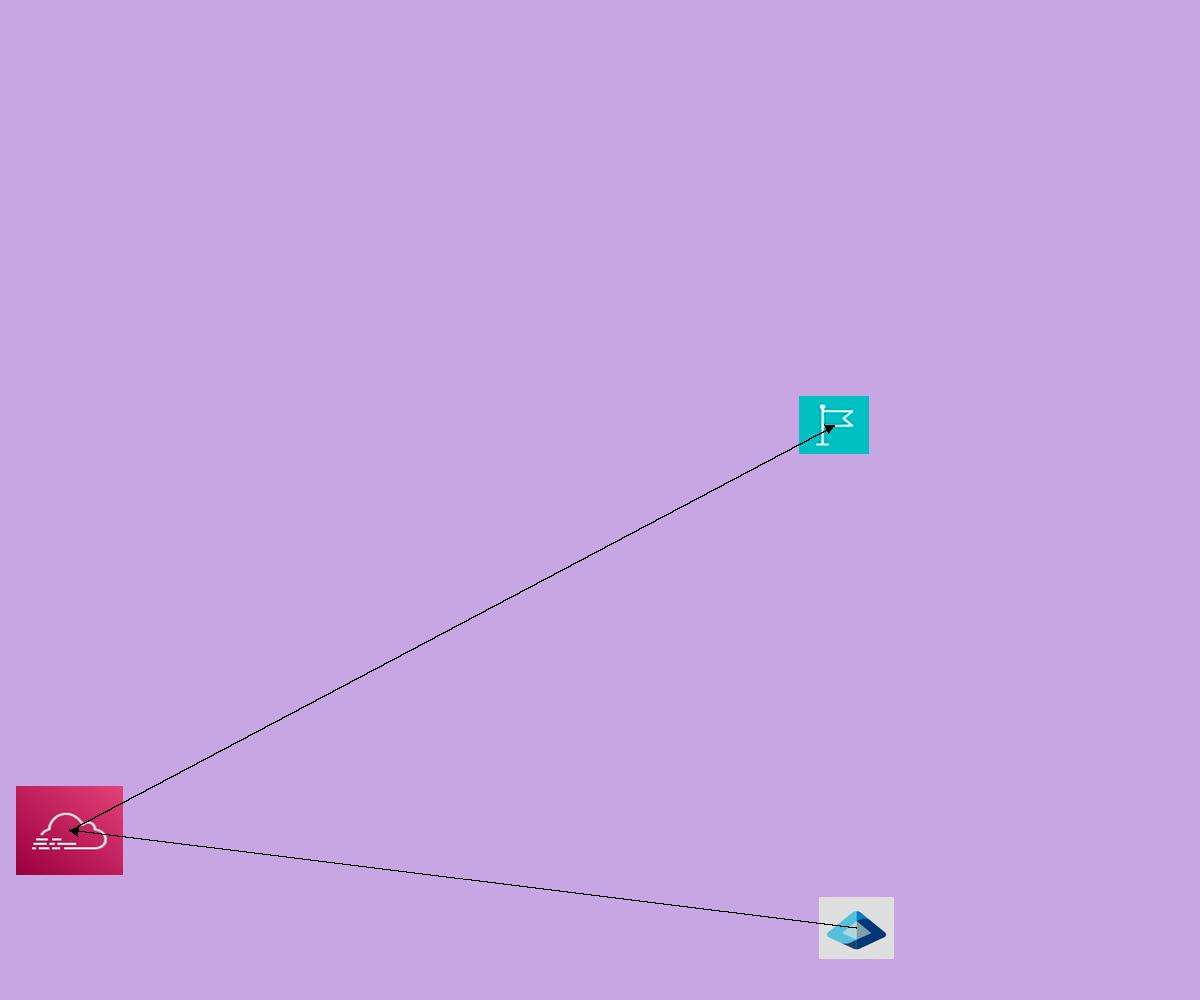AWS-CloudTrail: (16, 786, 123, 875)
AWS-Region: (799, 396, 869, 454)
Azure_microsoft_entra: (819, 897, 894, 959)
